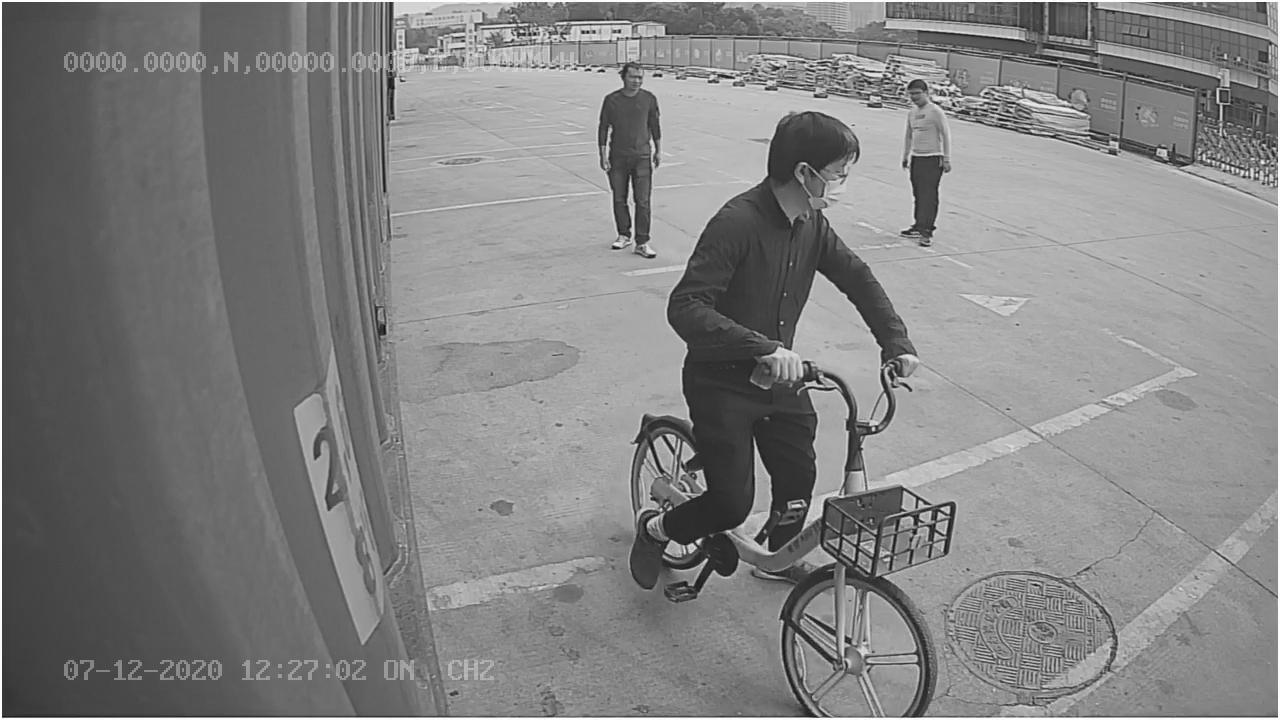person: (594, 56, 664, 264)
